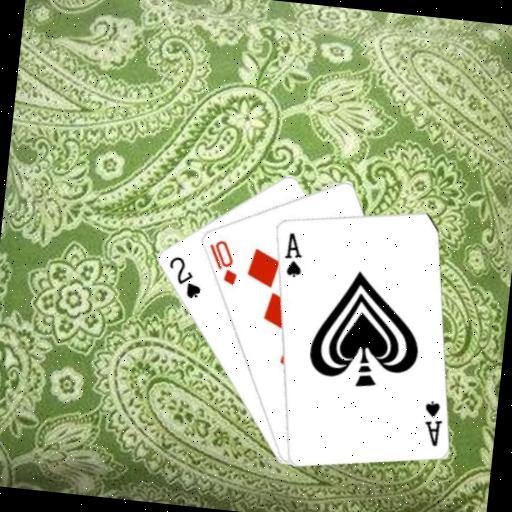10D: (202, 236, 242, 288)
2S: (162, 252, 207, 301)
AS: (417, 396, 446, 449), (279, 229, 306, 280)
